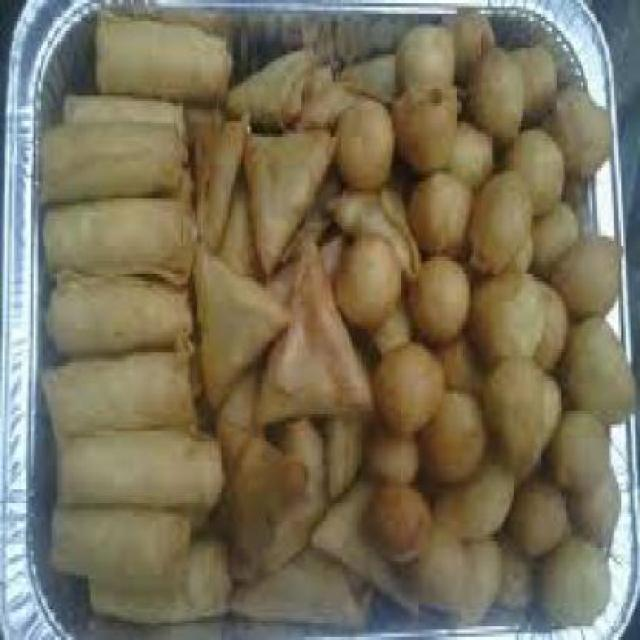samosa: (198, 24, 416, 619)
spring rolls: (31, 7, 231, 613)
